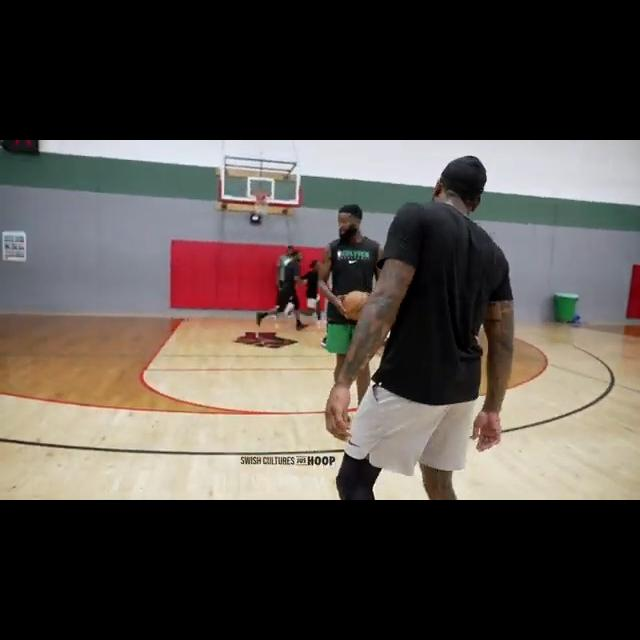basketball: (341, 292, 372, 321)
hoop: (253, 189, 272, 216)
